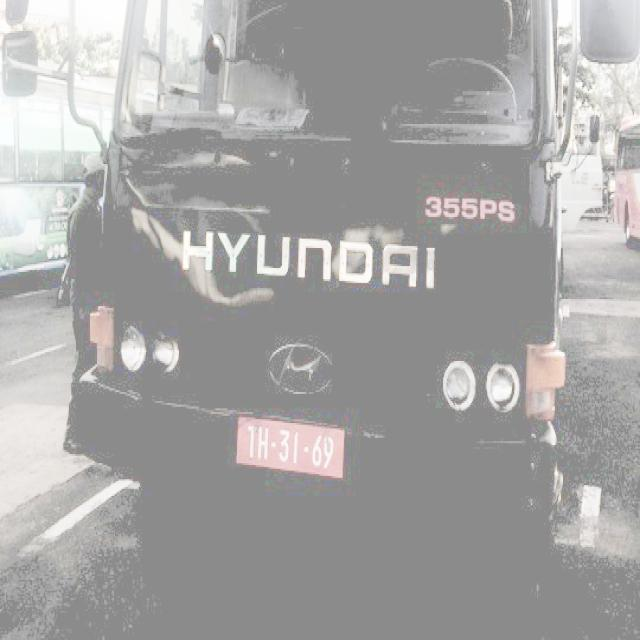license_plate: (239, 415, 346, 476)
